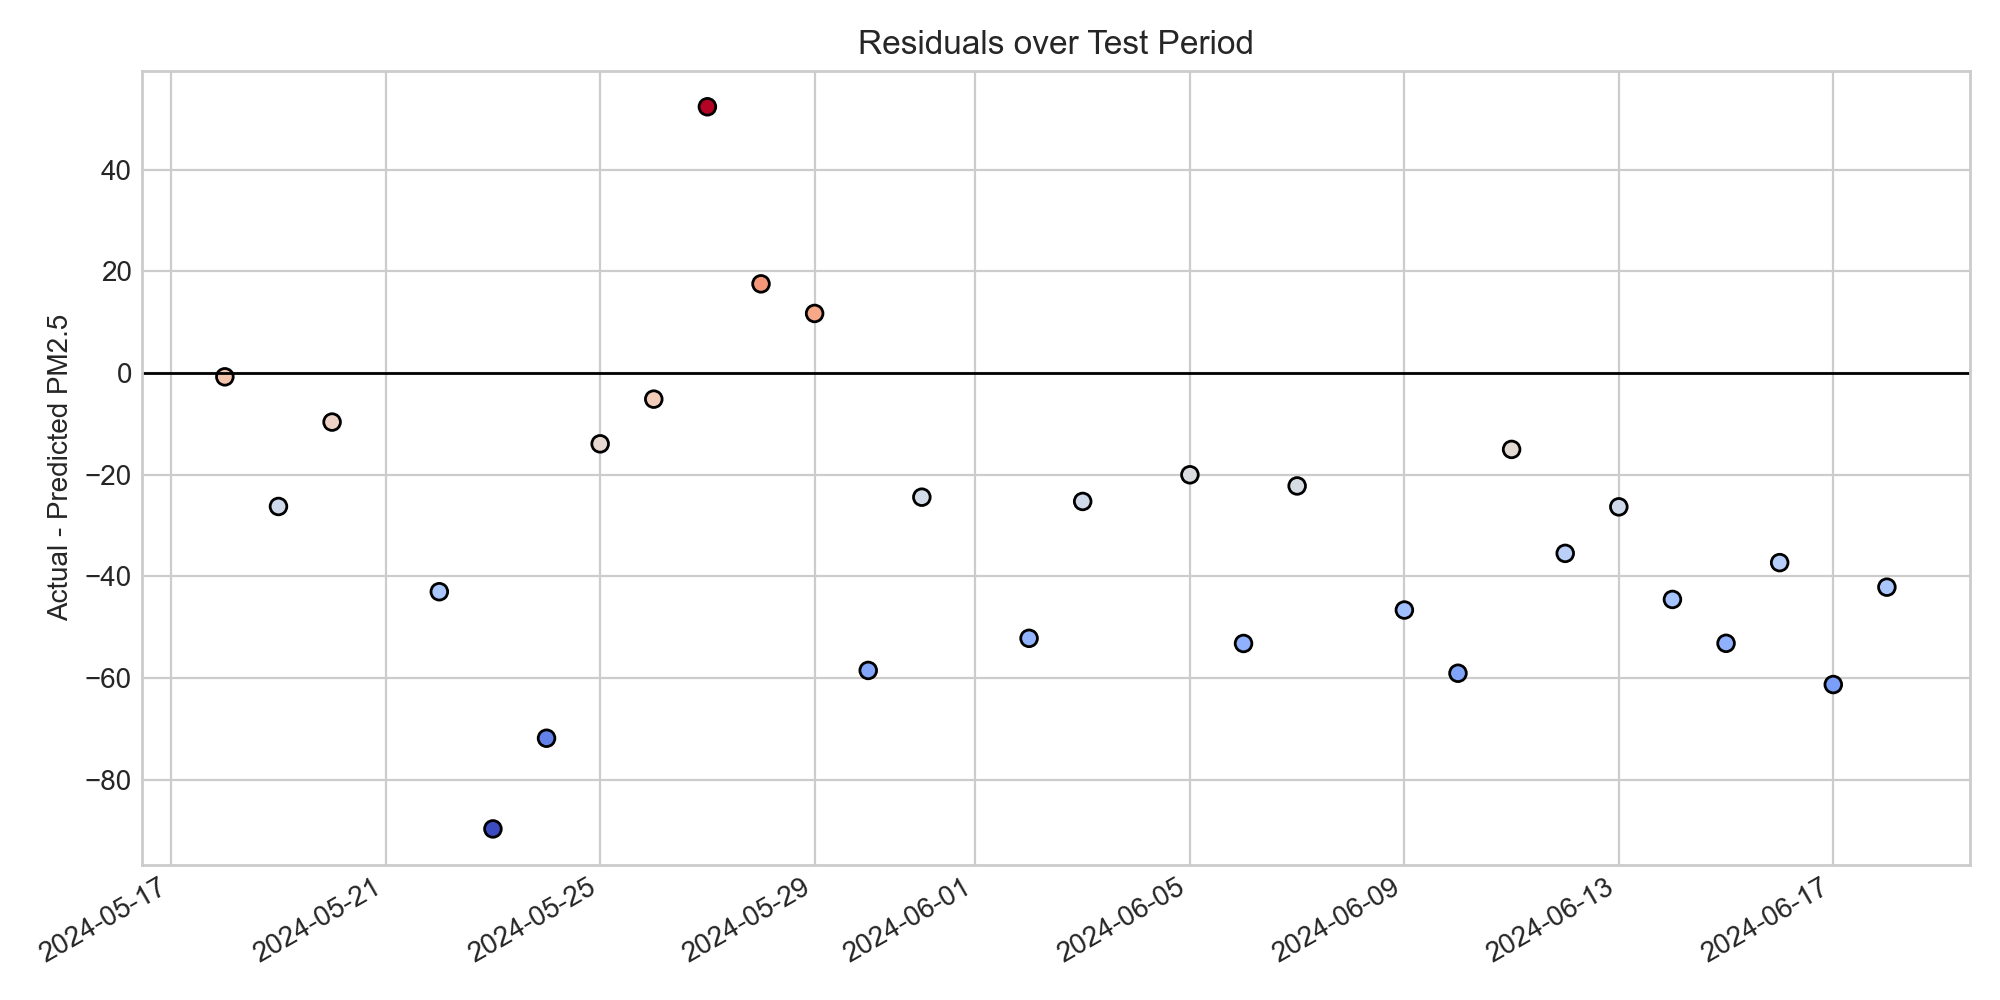

Layout of this report page (visuals, bound fields, positions):
{"tool":"powerbi","page":{"name":"Page 4","canvas":[1280,720],"ordinal":3},"visuals":[{"type":"image","box":[281.4,0,716.3,719.8],"z":0}]}

Visuals, with their boxes on the page's 1280x720 design canvas (x1, y1, x2, y2). These are canvas units, not pixel positions in the 2000x1000 screenshot, which may show the page scaled, cropped or inside an application window:
image: region(281, 0, 998, 720)
